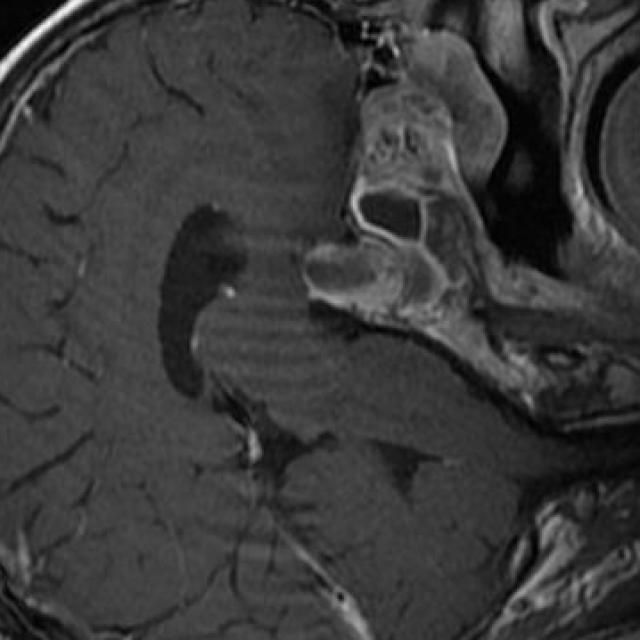pituitary: (303, 234, 449, 321)
